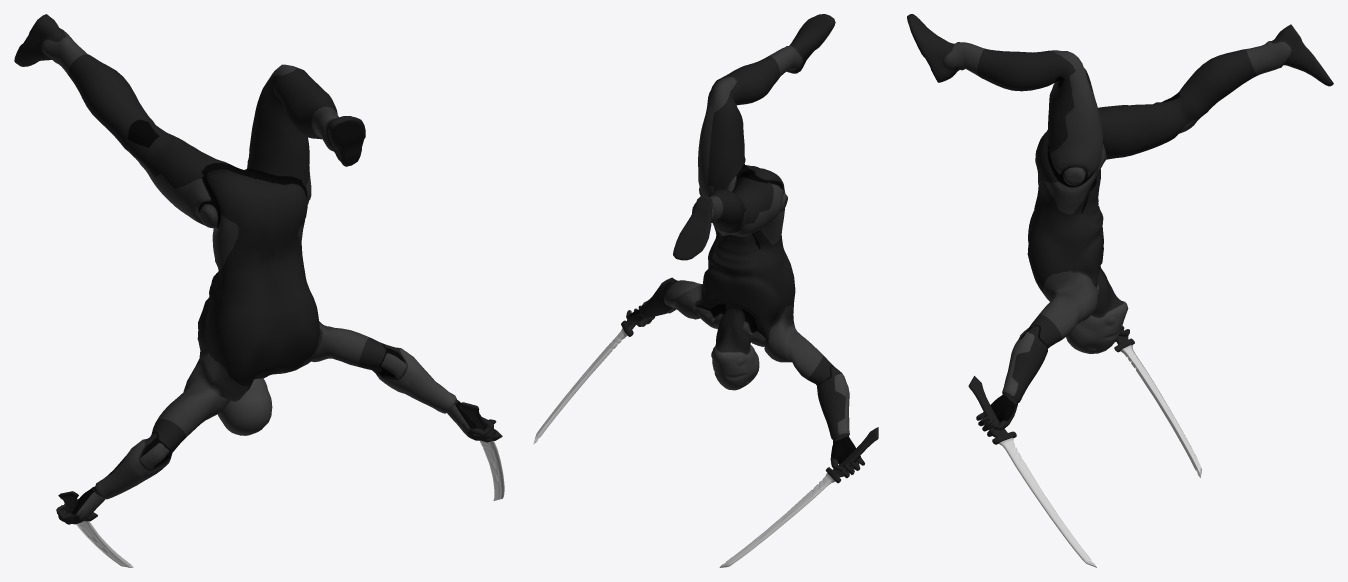
3 renders of one model, left to right at view 1: azimuth 30°, elevation 25°; view 2: azimuth 150°, elevation 25°; view 3: azimuth 270°, elevation 25°, orthographic. The views are drawn at different scales.
Visible parts, largest first — view 1: Cyborg_Ninja_Killer, Sword_l, Sword_l001; view 2: Cyborg_Ninja_Killer, Sword_l001, Sword_l; view 3: Cyborg_Ninja_Killer, Sword_l, Sword_l001.
Boxes of the visible parts, x1,y1,x2,y2 form: Cyborg_Ninja_Killer: [14, 14, 496, 524]; Sword_l: [459, 402, 504, 500]; Sword_l001: [58, 491, 133, 567]; Cyborg_Ninja_Killer: [626, 14, 864, 478]; Sword_l001: [719, 427, 878, 567]; Sword_l: [533, 320, 636, 444]; Cyborg_Ninja_Killer: [907, 14, 1333, 436]; Sword_l: [968, 376, 1096, 567]; Sword_l001: [1114, 336, 1201, 477].
Size of the model in its own units: 166 by 205 by 166.
2 materials, 2 textured.
